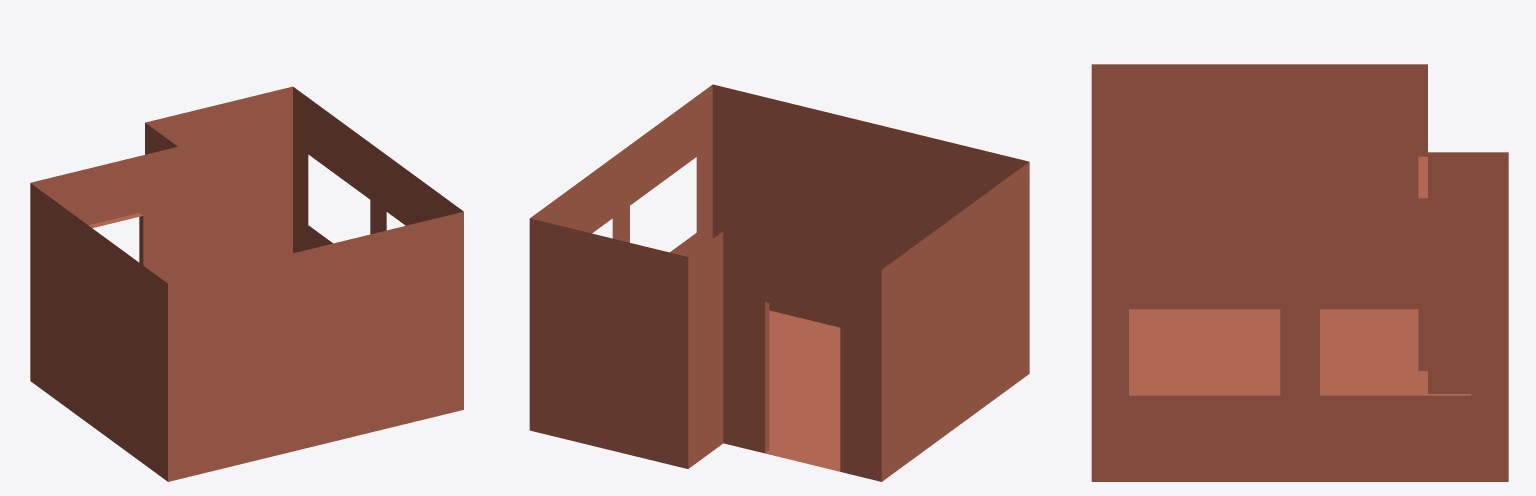
The model's file is Bld_R_low_L1_A.fbx.
3 renders of one model, left to right at view 1: azimuth 30°, elevation 25°; view 2: azimuth 150°, elevation 25°; view 3: azimuth 270°, elevation 25°, orthographic. The views are drawn at different scales.
Parts seen in each view (by area): view 1: Bld_R_low_L1_A_LOD0; view 2: Bld_R_low_L1_A_LOD0; view 3: Bld_R_low_L1_A_LOD0.
Part boxes in pixels (box(x1,y1,x2,y2)): Bld_R_low_L1_A_LOD0: box(30, 86, 463, 481); Bld_R_low_L1_A_LOD0: box(529, 84, 1029, 481); Bld_R_low_L1_A_LOD0: box(1091, 64, 1508, 481).
Size of what is drawn, in the model's own units: 600 by 585 by 600.
1 material, 1 textured.
